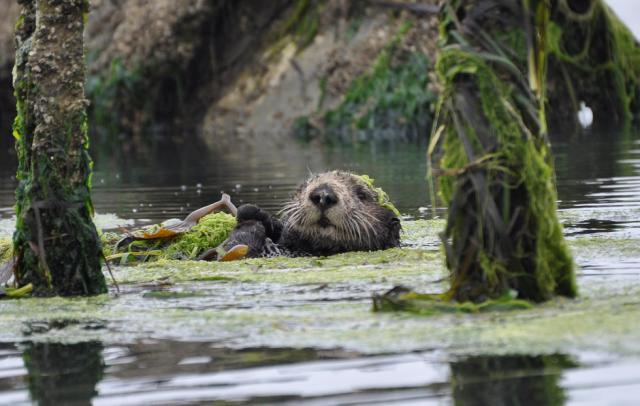otter: (258, 154, 401, 271)
